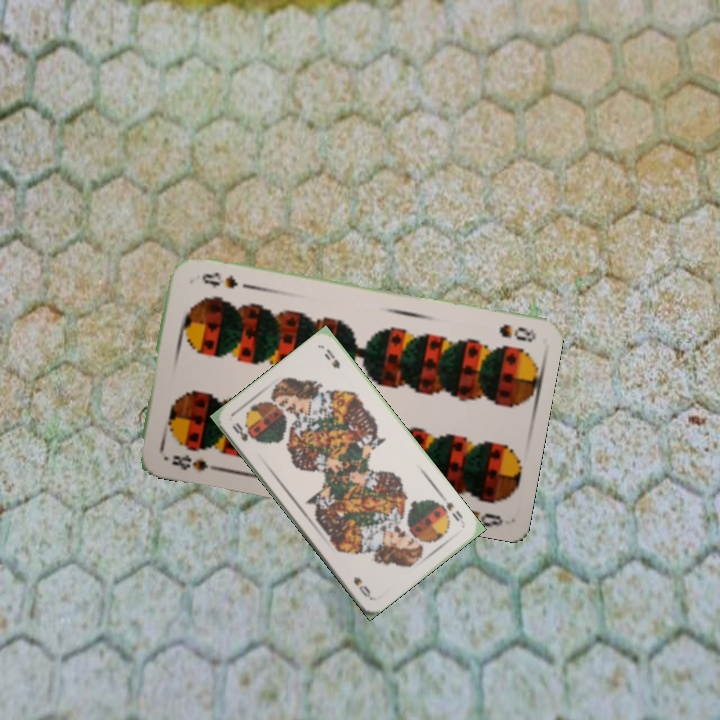S8: (168, 450, 219, 474), (495, 320, 538, 345)
SO: (228, 419, 256, 444), (442, 497, 465, 524)
